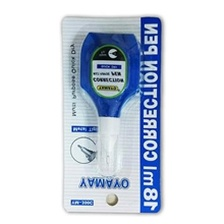book: (61, 12, 164, 214)
correction_fluid: (76, 29, 142, 177)
